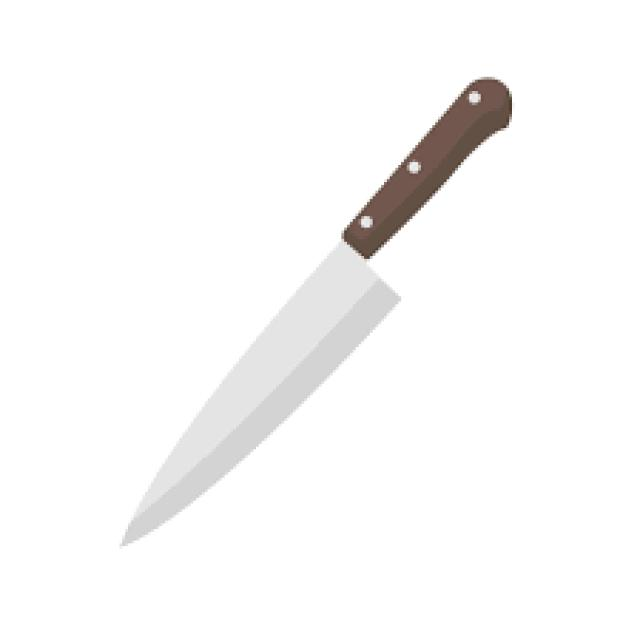Knife: (119, 74, 512, 546)
